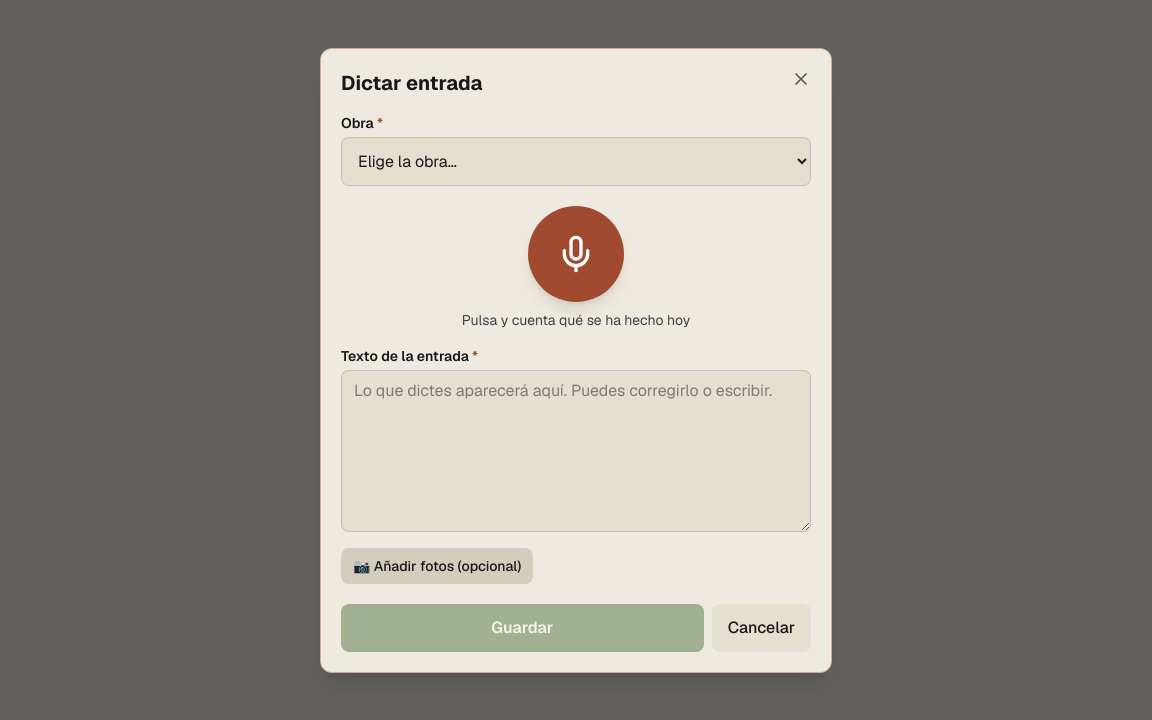
Test: DictarEntradaModal › Guardar está deshabilitado hasta tener obra y texto
Expected: the button "Guardar" is disabled, left=341, top=604, right=704, bottom=652
Select "Reforma cocina — Calle A 1" in the dropdown labelled "Obra *" at (576, 161), box left=341, top=136, right=811, bottom=186
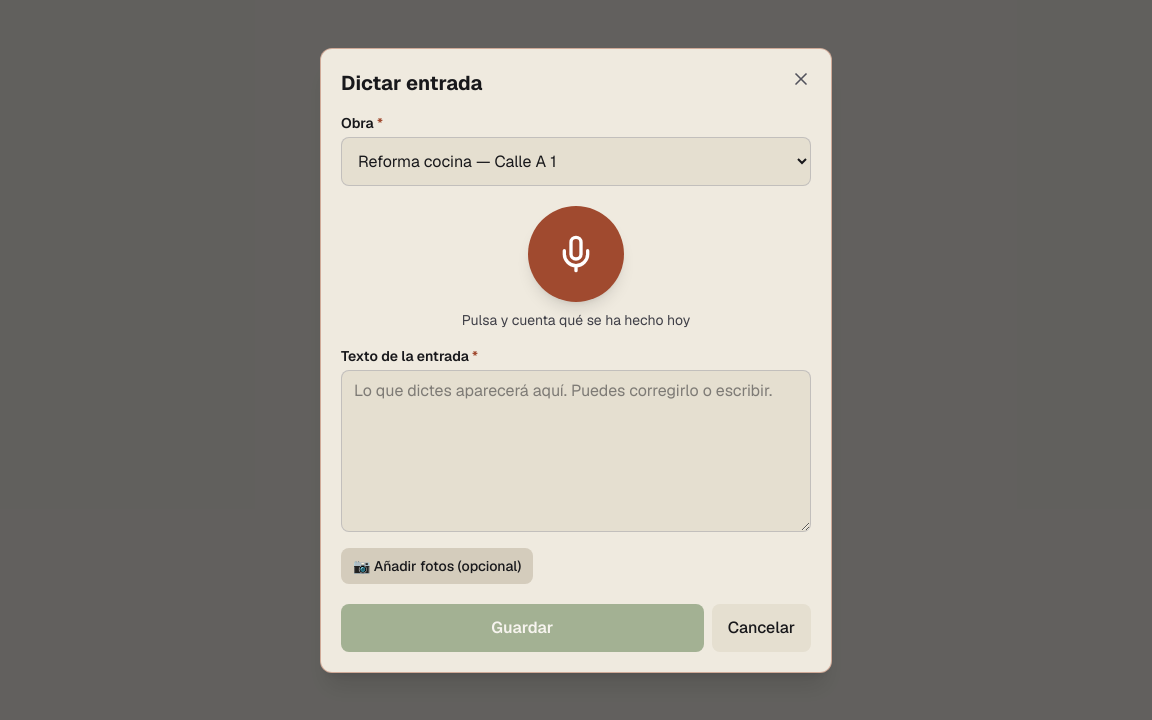
Expected: the button "Guardar" is disabled, left=341, top=604, right=704, bottom=652
Type "Picado" into the text box labelled "Texto de la entrada *" at (576, 450), box left=341, top=370, right=811, bottom=532
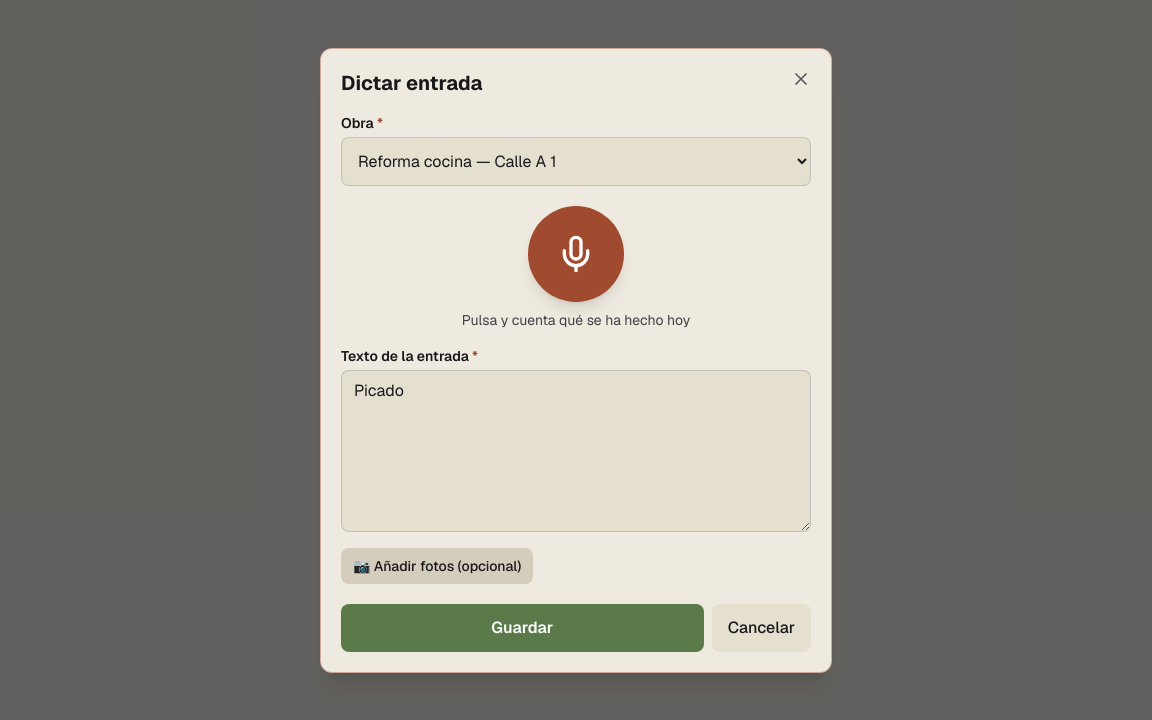
Expected: the button "Guardar" is enabled, left=341, top=604, right=704, bottom=652
